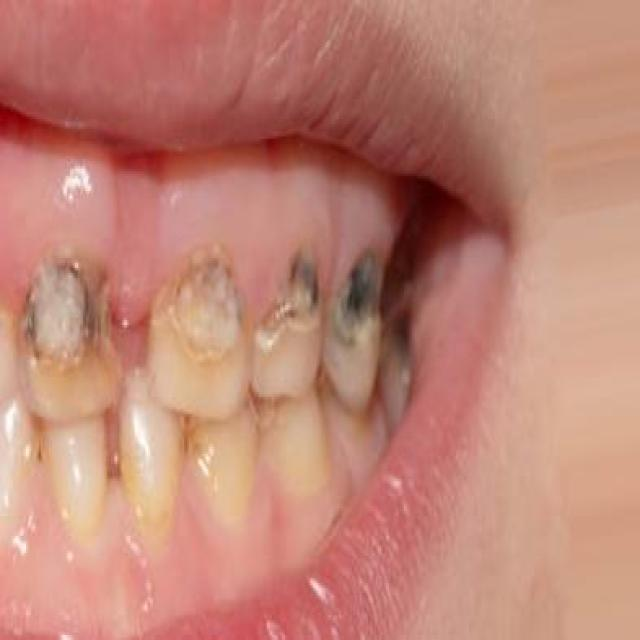caries: (17, 242, 124, 420), (148, 240, 250, 413), (324, 237, 389, 416), (253, 240, 325, 393)
